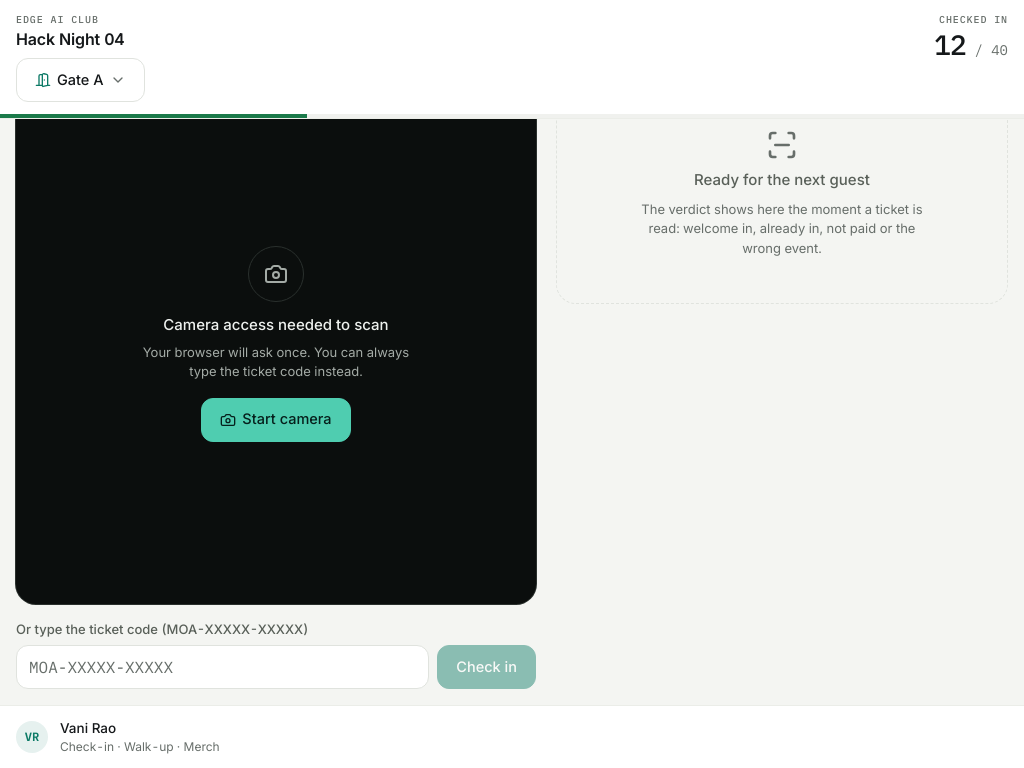
Test: collecting a guest's number at the door › skips in one tap and records nothing
(page scrolled)
Type "MOA-1" into the field labelled "Or type the ticket code (MOA-XXXXX-XXXXX)" at (223, 667), box [16, 645, 429, 689]
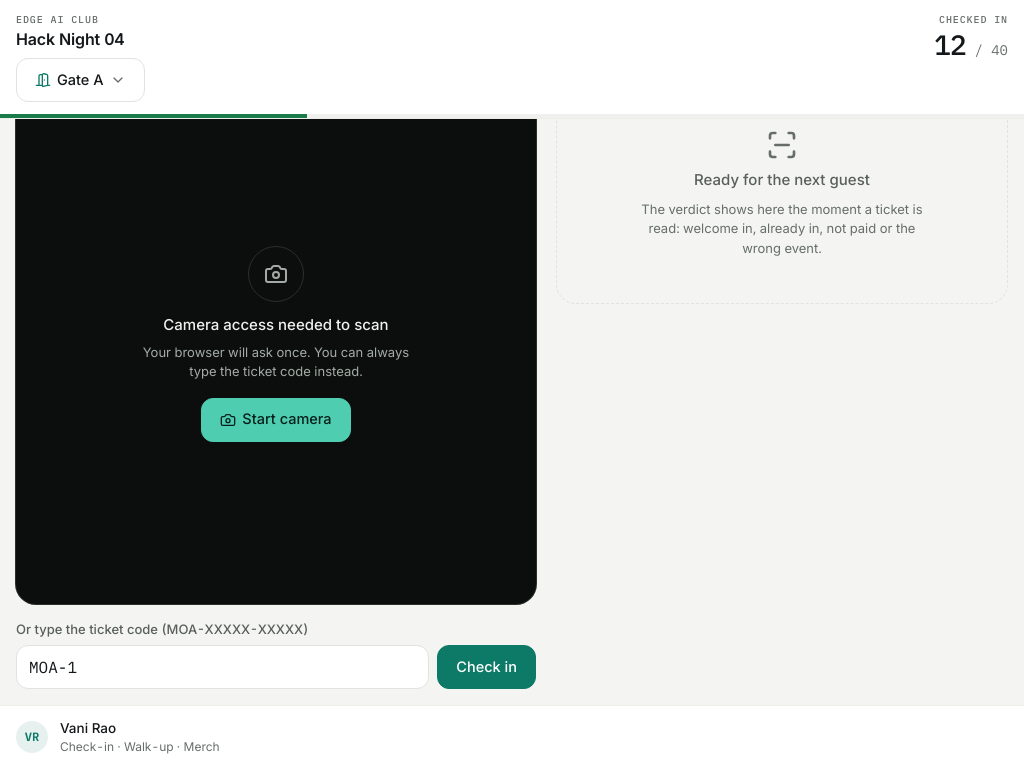
Click the button "Check in" at (487, 667), box [437, 645, 536, 689]
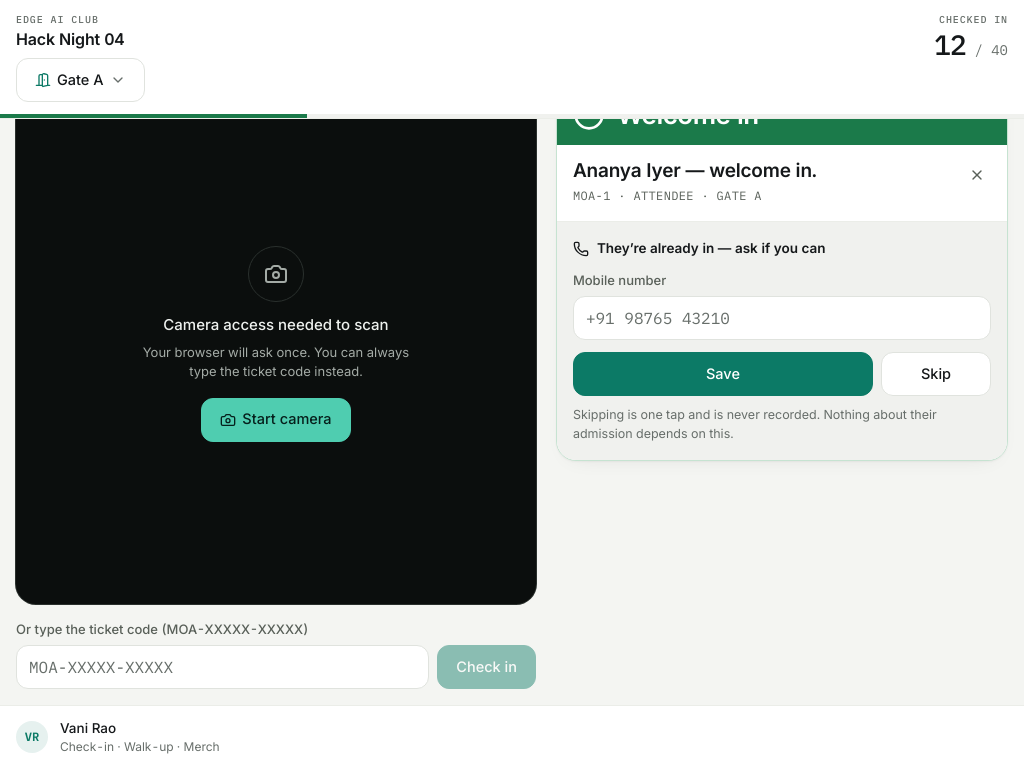
Click the button "Skip" at (936, 374), box [881, 352, 991, 396]
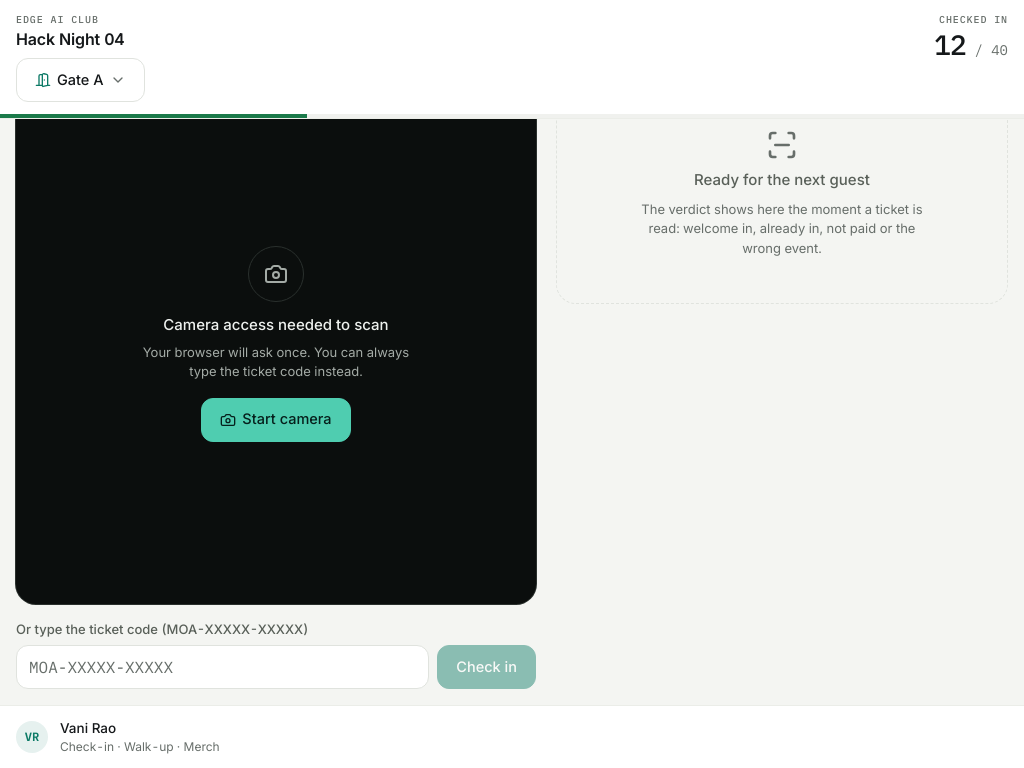
Check: the label labelled "Mobile number" is gone
Check: the text "Ready for the next guest" is shown, box [694, 169, 870, 192]
